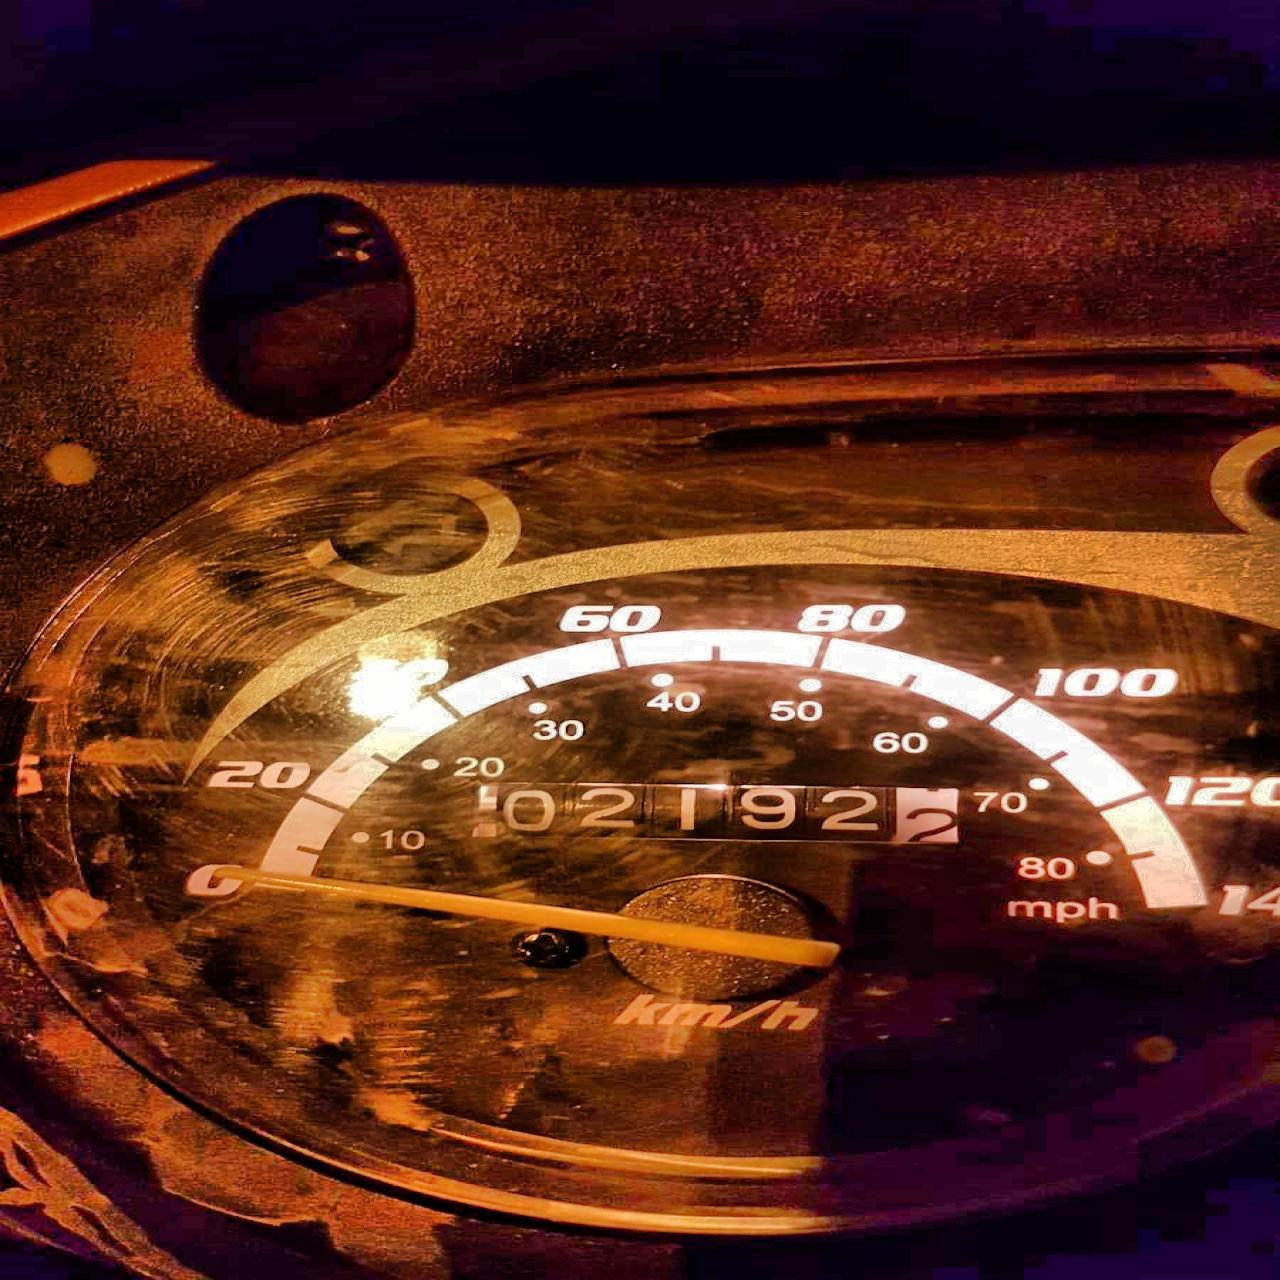0: (498, 788, 561, 833)
1: (672, 782, 707, 836)
2: (574, 783, 641, 835), (818, 787, 880, 837), (901, 808, 955, 845)
9: (734, 783, 798, 831)
odometer: (461, 778, 968, 856)
